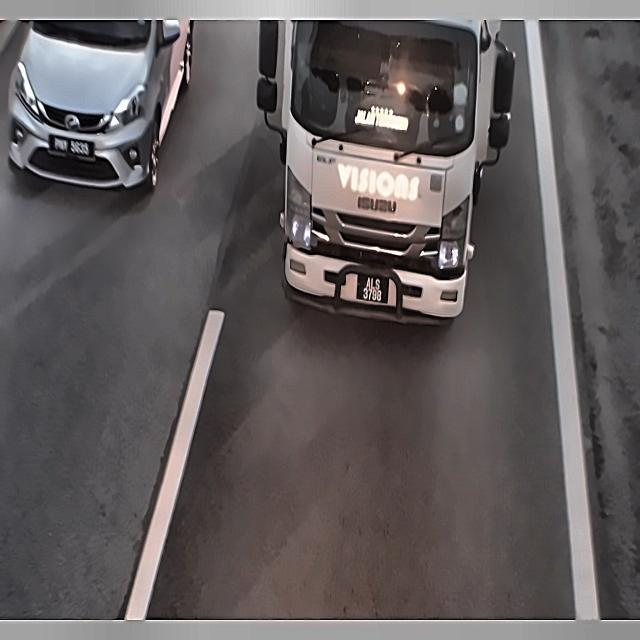car: (46, 132, 98, 166), (355, 267, 393, 308)
